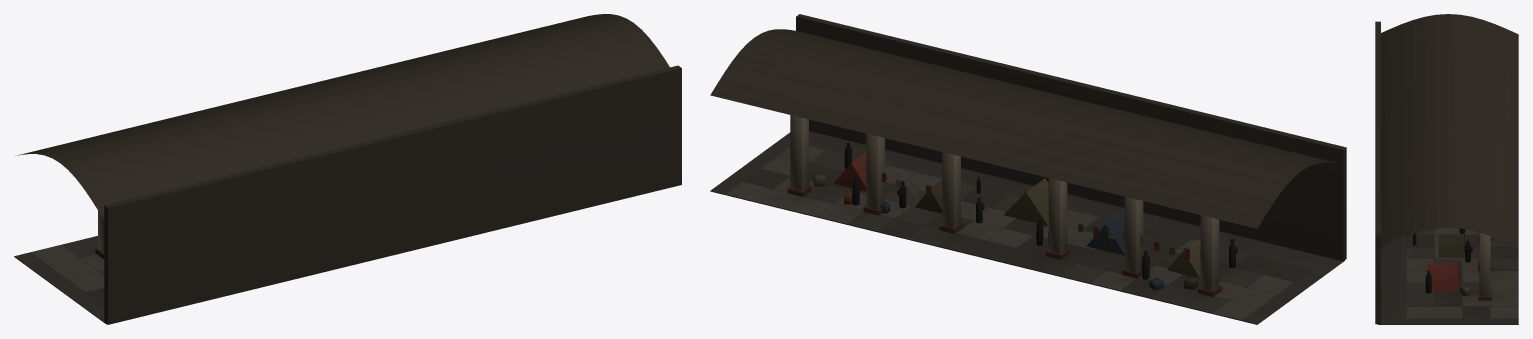
File: estacion_fondo.glb
3 views of the same model, side by side, from view 1: azimuth 30°, elevation 25°; view 2: azimuth 150°, elevation 25°; view 3: azimuth 270°, elevation 25° (orthographic). The views are drawn at different scales.
Parts seen in each view (by area): view 1: fondo; view 2: fondo; view 3: fondo.
Boxes of the visible parts, bbox=[...] form: fondo: bbox=[14, 14, 681, 324]; fondo: bbox=[710, 14, 1346, 324]; fondo: bbox=[1375, 14, 1518, 324].
Bounding box in the file's own units: 36 × 7.64 × 10.2.
